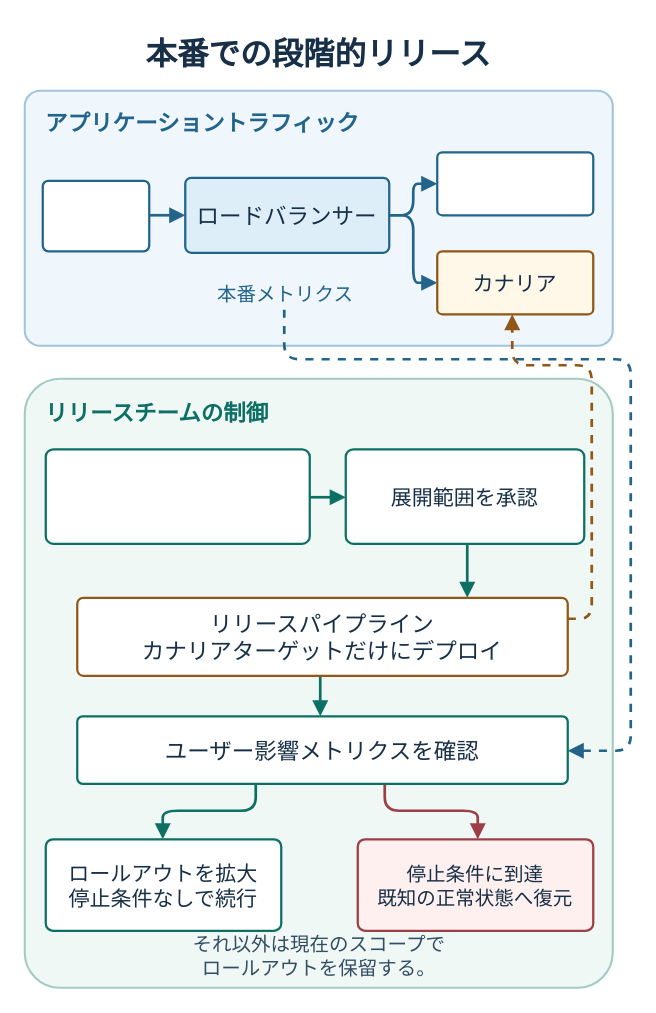
The diagram is 656 pixels wide and 1013 high, and some of its shapes have lost their labels. The shapes that lost their labels are listed below. From the top down, each one's box as (x1, y1, x2, y2) in pixels, then its label:
(435, 150, 594, 216): 安定版
(41, 179, 150, 252): 利用元
(44, 447, 310, 544): CFN変更セット
